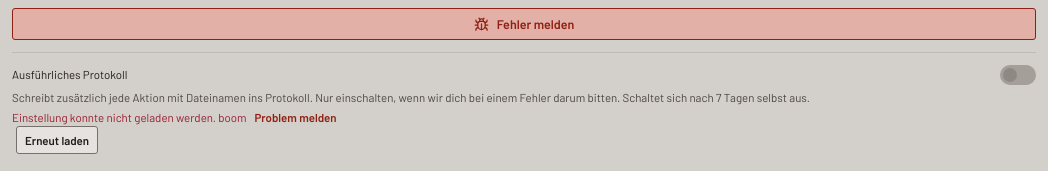
Scenario: DiagnosticsSettings states › does not guess the switch when the stored state cannot be read
Expected: the message shows "Einstellung konnte nicht geladen werden.", [12,110,216,124]
Expected: the switch is disabled, [1000,65,1036,85]
Click the button "Erneut laden". click: (57, 140)
box: [16,126,98,154]
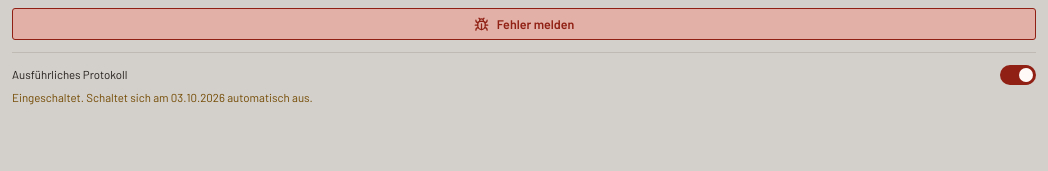
Result: the switch is enabled at [1000,65,1036,85]
